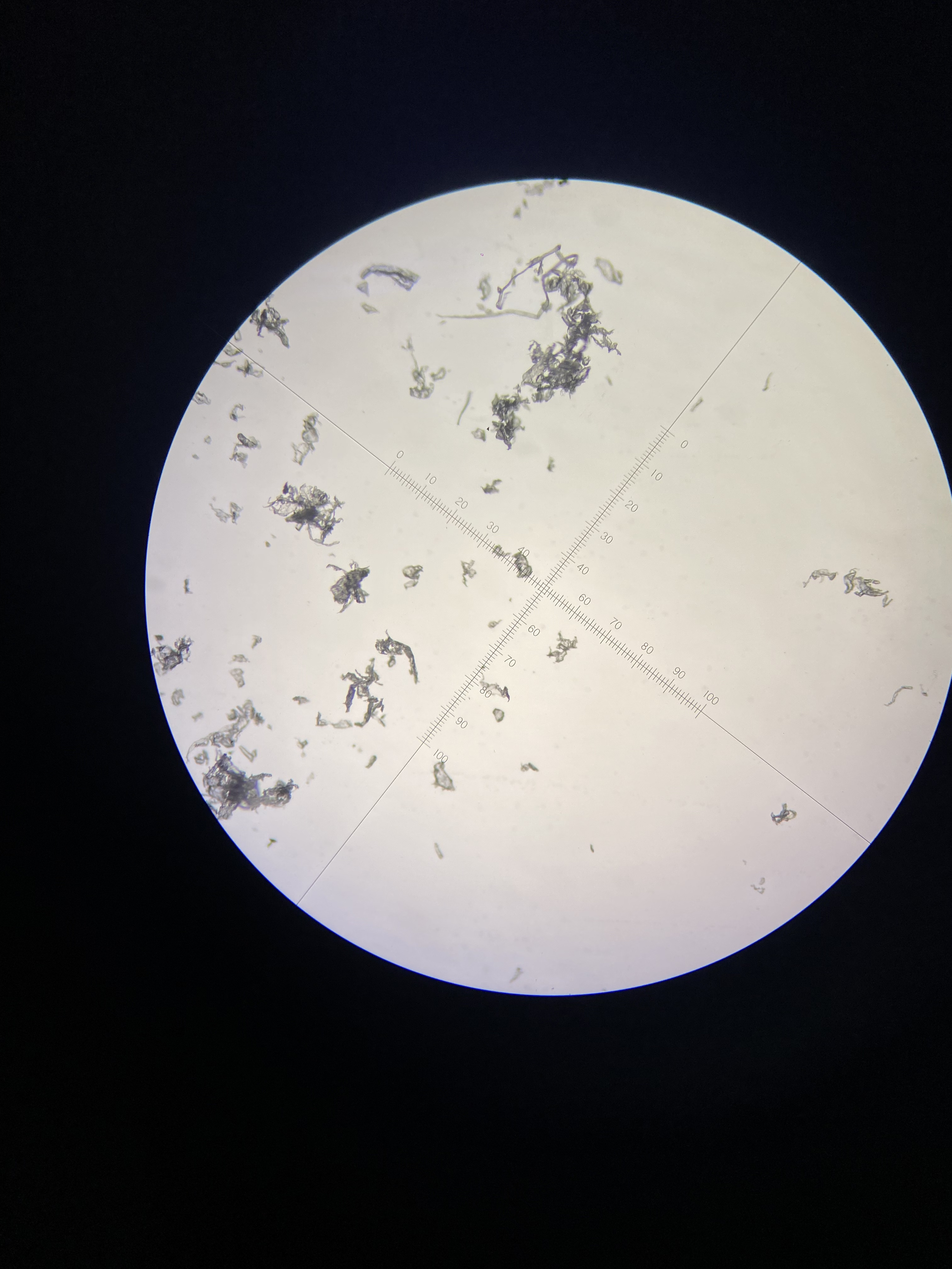microplastic: (525, 270, 621, 403), (433, 243, 582, 322), (203, 754, 298, 822), (265, 482, 345, 547), (185, 702, 275, 752), (341, 657, 387, 730), (511, 176, 574, 225), (396, 336, 439, 400), (325, 560, 375, 613), (246, 293, 291, 349), (491, 390, 530, 452), (376, 629, 419, 685), (359, 262, 422, 295), (844, 568, 893, 608), (153, 634, 195, 676), (292, 414, 324, 464), (479, 666, 510, 702), (232, 432, 262, 469), (547, 630, 579, 664), (208, 497, 243, 526), (592, 255, 624, 285), (802, 568, 839, 590), (883, 685, 915, 708), (434, 761, 455, 792), (511, 551, 534, 579), (236, 357, 264, 380), (772, 803, 798, 825), (457, 391, 472, 427), (401, 564, 422, 589), (461, 560, 478, 588), (480, 478, 504, 497), (238, 745, 260, 763), (230, 666, 247, 688), (229, 402, 246, 423), (294, 736, 309, 759), (214, 356, 236, 370), (751, 877, 767, 896), (429, 365, 445, 384), (192, 391, 212, 406), (224, 343, 243, 358), (492, 544, 510, 559), (361, 301, 379, 316), (171, 689, 186, 707), (520, 761, 540, 774), (354, 279, 370, 295), (181, 578, 196, 595), (228, 653, 251, 664), (195, 751, 212, 765), (332, 720, 353, 731), (690, 397, 705, 412), (763, 372, 774, 392), (471, 429, 487, 442), (433, 843, 445, 860), (492, 708, 506, 722), (365, 755, 379, 769), (265, 834, 278, 849), (251, 634, 263, 650), (315, 712, 327, 727), (292, 696, 311, 705), (487, 619, 504, 629), (191, 712, 205, 724), (546, 454, 555, 472), (603, 374, 614, 388), (232, 330, 244, 340), (352, 744, 363, 753), (204, 435, 212, 444), (191, 453, 200, 460), (590, 843, 594, 853), (508, 596, 513, 602)
